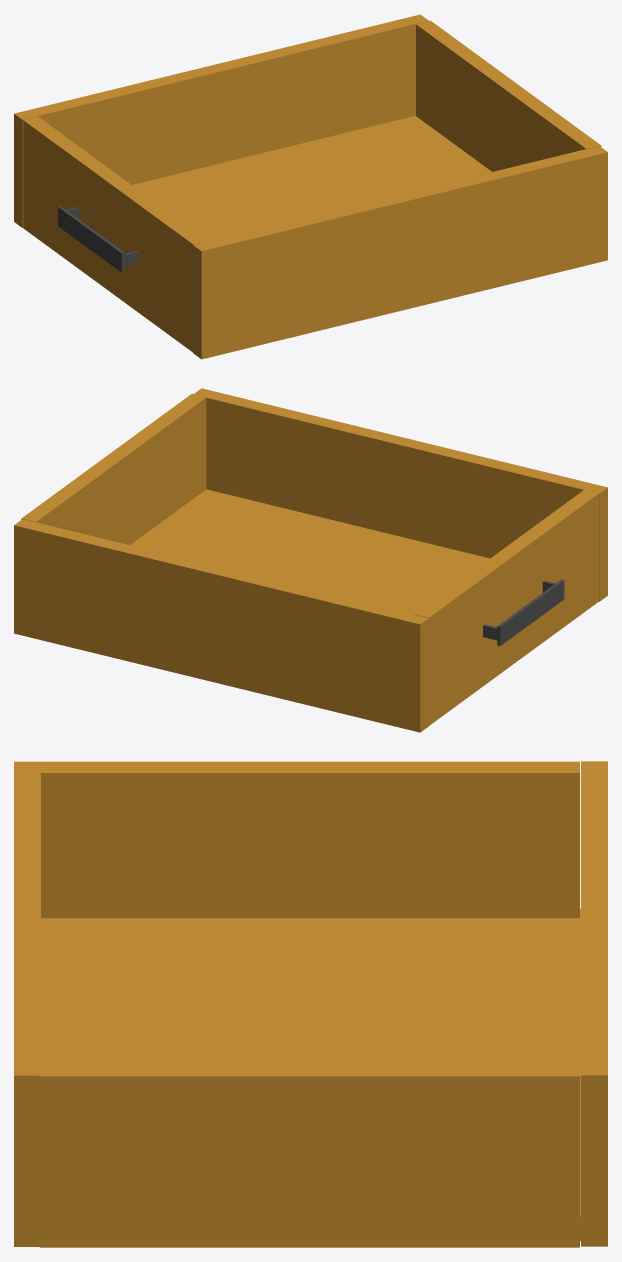
File: stove_drawer.dae
3 views of the same model, one above another, from view 1: azimuth 30°, elevation 25°; view 2: azimuth 150°, elevation 25°; view 3: azimuth 270°, elevation 25° (orthographic). The views are drawn at different scales.
Visible parts, largest first — view 1: Cube_001; view 2: Cube_001; view 3: Cube_001.
Part boxes in pixels (x1,y1,x2,y2): Cube_001: (14, 14, 607, 359); Cube_001: (14, 388, 607, 732); Cube_001: (14, 761, 607, 1247).
Bounding box in the file's own units: 0.5764 × 0.4399 × 0.1404.
